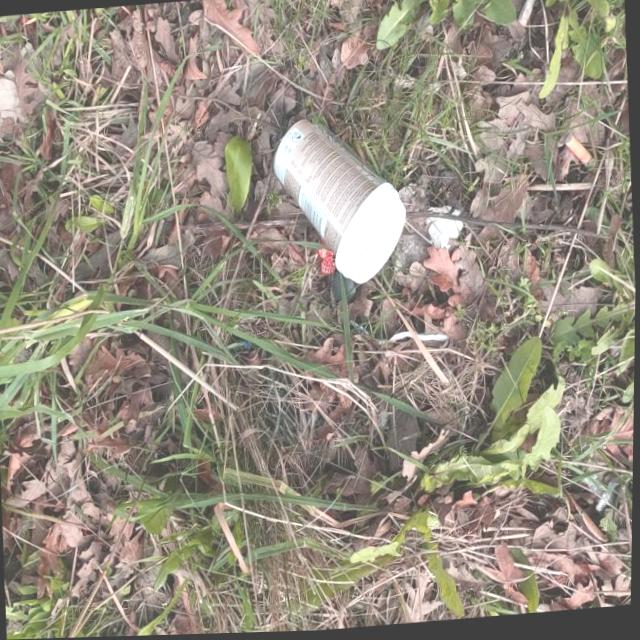Cup: (257, 108, 422, 293)
Plastic: (307, 242, 338, 277)
